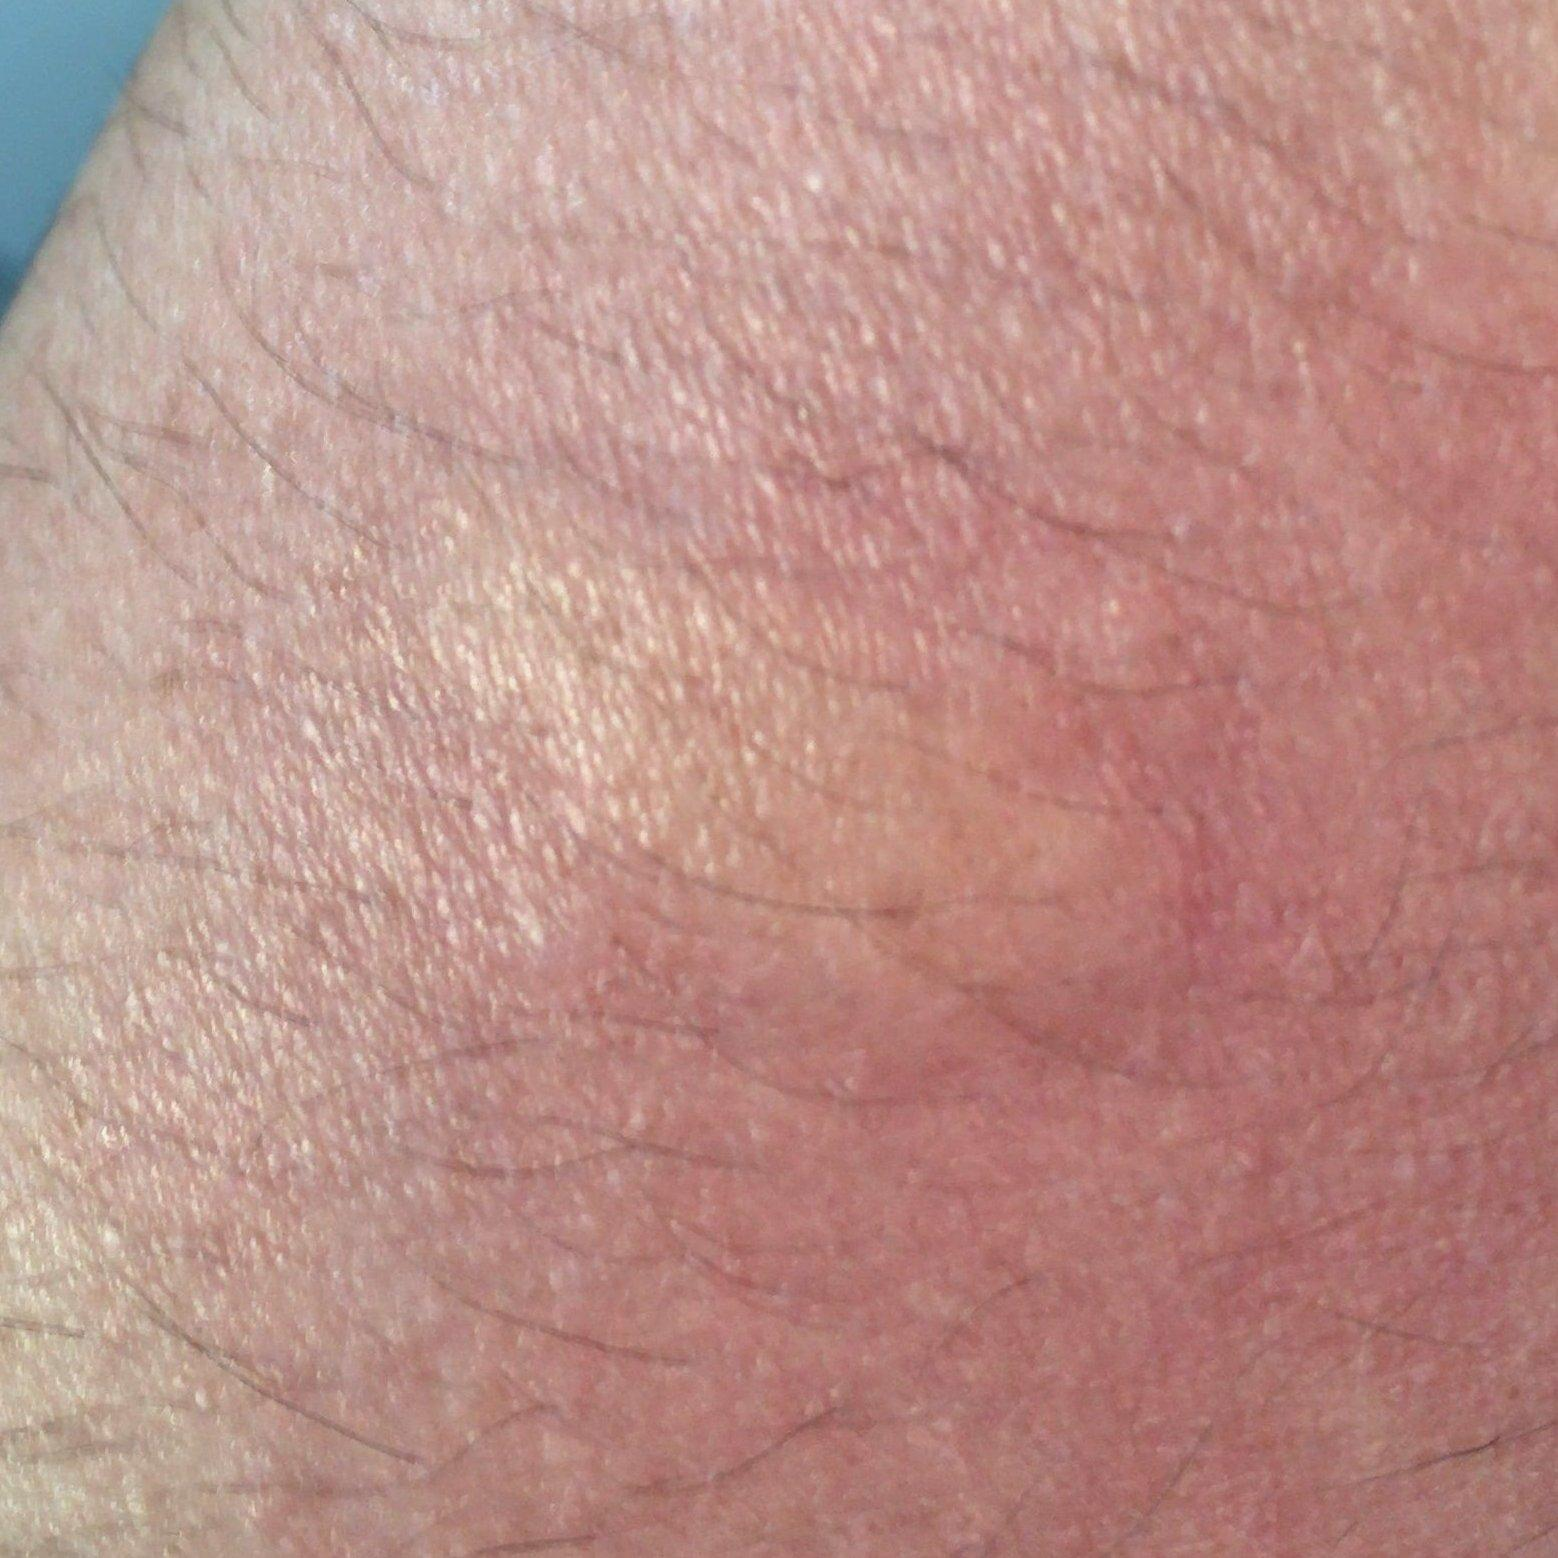Mosquito: (311, 461, 1250, 1090)
